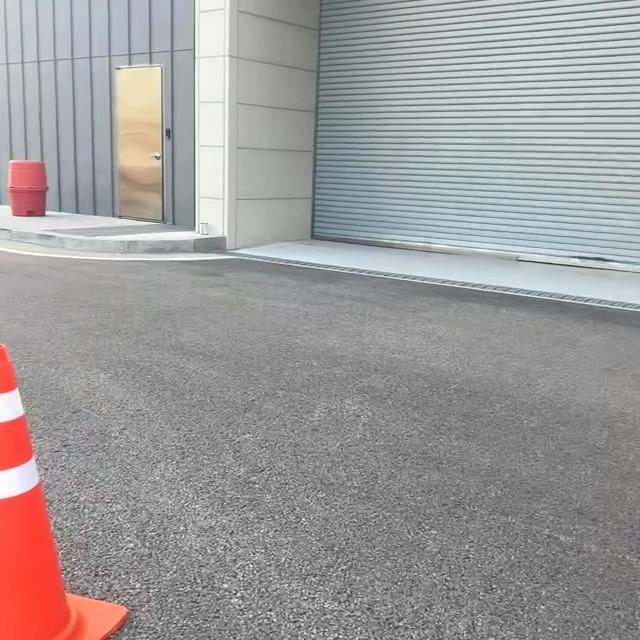fallen_object: (0, 319, 120, 640)
